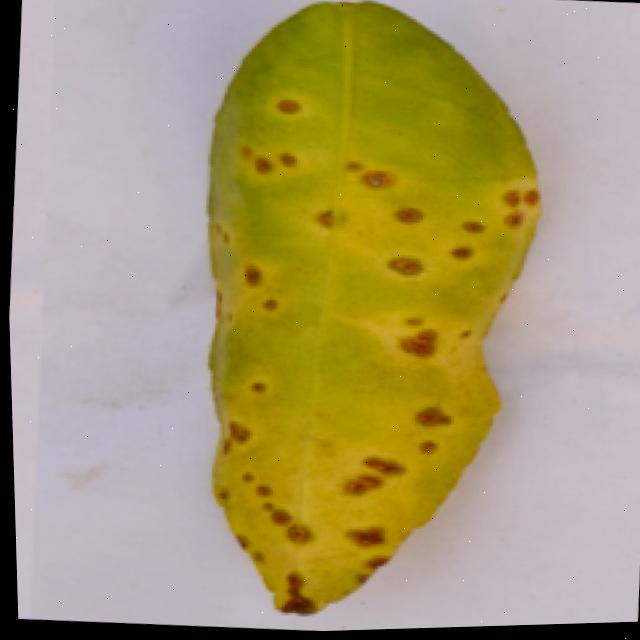canker: (210, 3, 536, 611), (160, 161, 562, 621), (220, 81, 382, 196)
